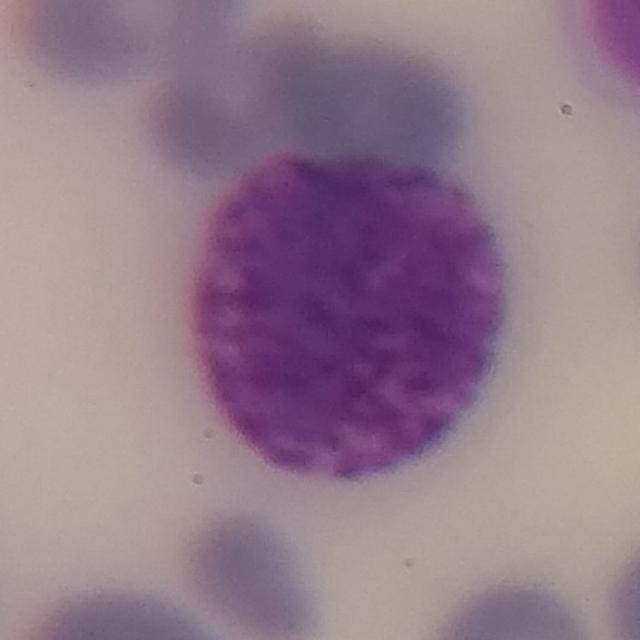Basophil: (172, 132, 520, 490)
Monocyte: (557, 0, 640, 130)
RBC: (132, 8, 339, 172), (256, 40, 474, 176), (170, 503, 328, 640), (2, 0, 163, 91), (23, 577, 233, 640), (425, 573, 603, 640), (599, 525, 640, 640)
